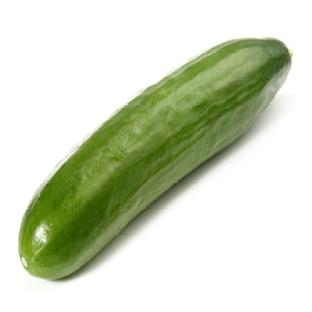Cucumber: (19, 39, 290, 278)
